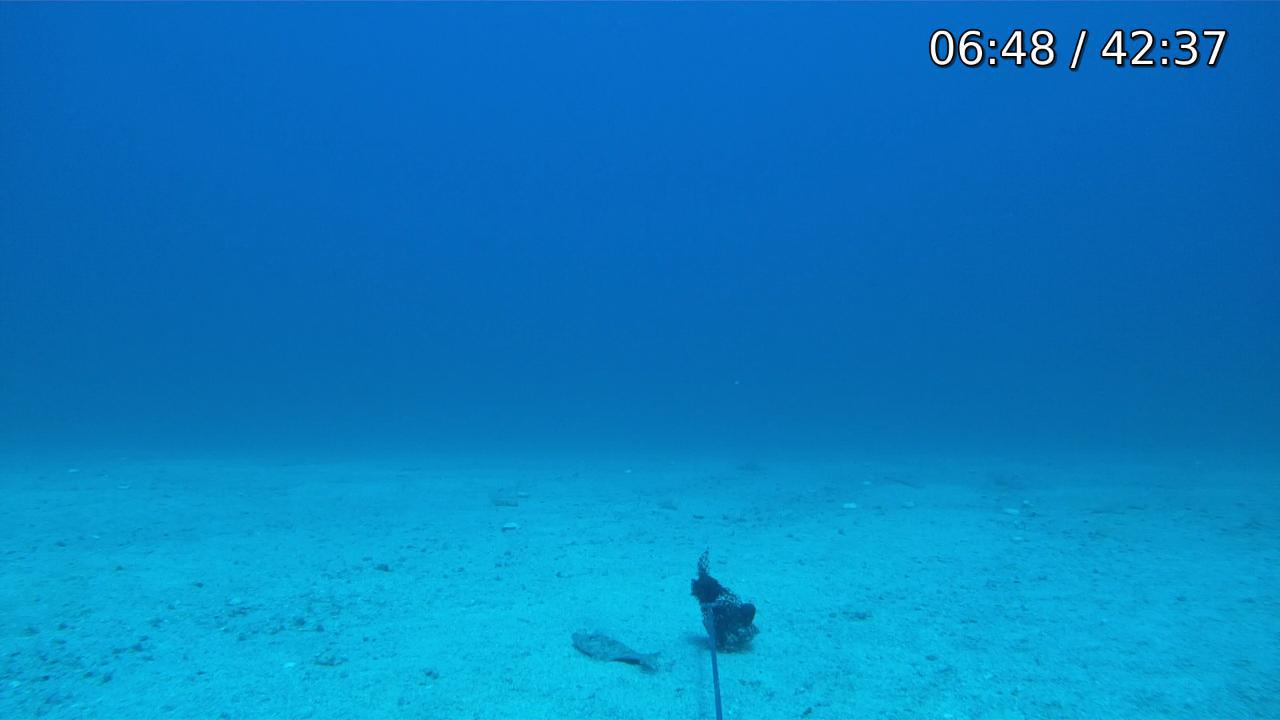bothus: (567, 626, 668, 673)
